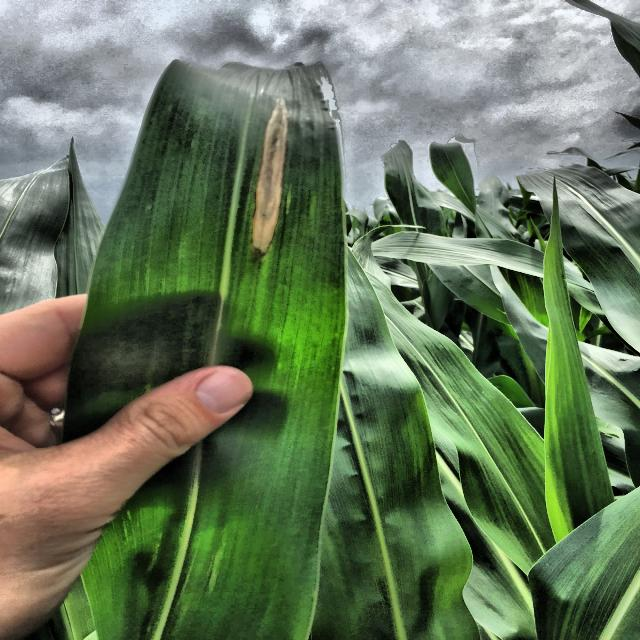blight: (94, 65, 346, 314)
